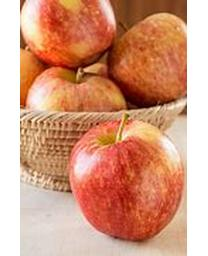apple: (68, 114, 184, 241), (108, 13, 187, 109), (20, 0, 117, 69), (24, 66, 128, 112), (20, 48, 45, 107)
